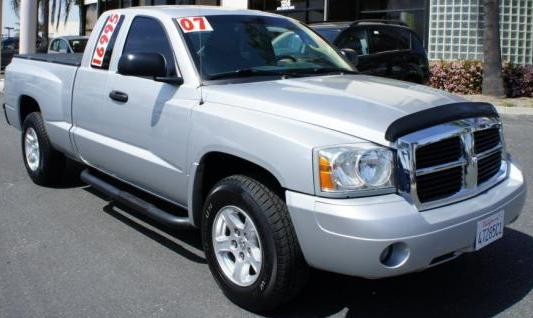front_view: (300, 97, 525, 256)
headlight: (310, 127, 401, 205)
side_glass: (79, 13, 195, 96)
